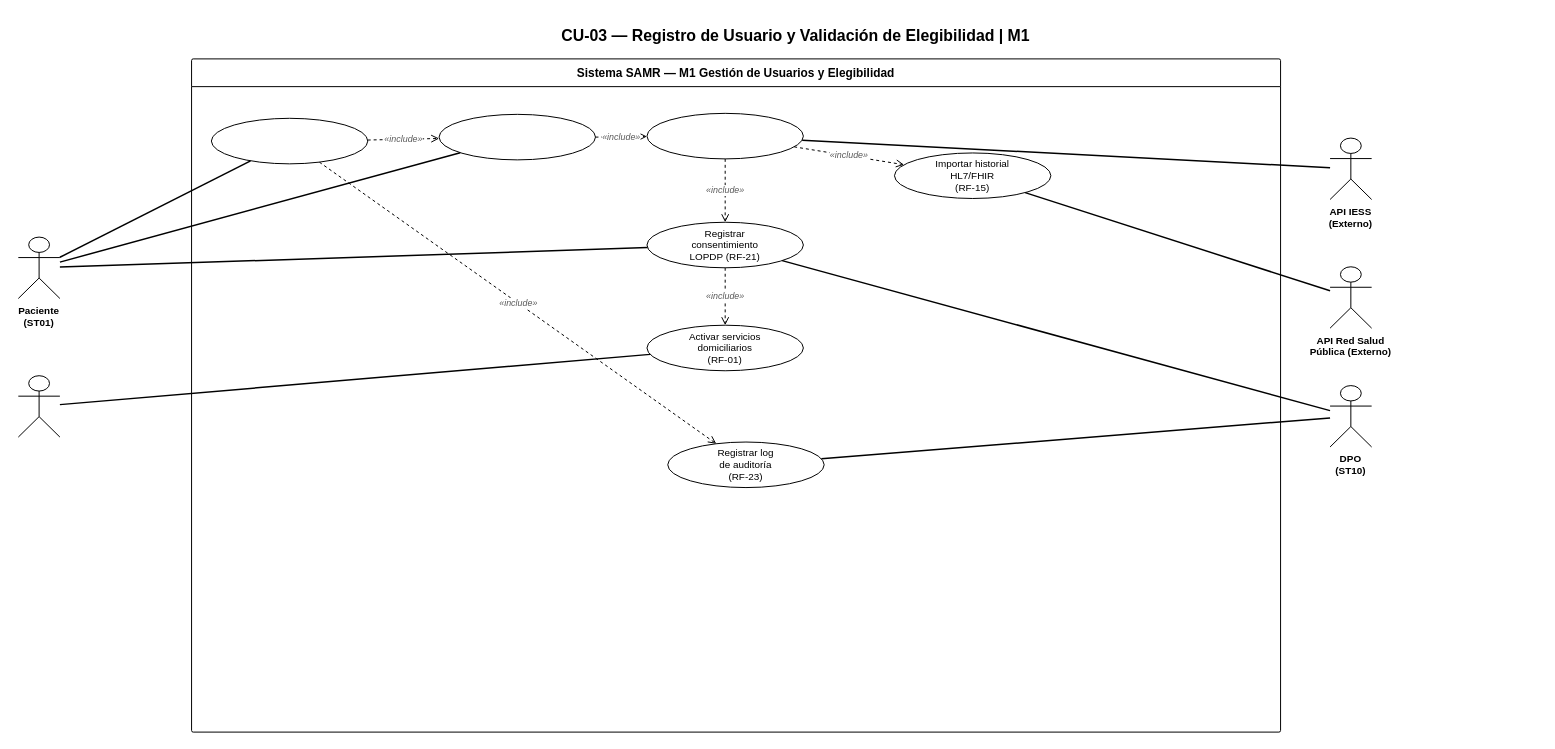
Some shapes in this 1555 by 749 pixel diagram are drawn without their labels. The shapes that lost their labels are listed below. From the top down, each one's centre as x and y in pixels, then its label:
At (x=289, y=140): "Registrar perfil con rol".
At (x=516, y=136): "Autenticar usuario".
At (x=724, y=135): "Validar elegibilidad automática (RF-02)".
At (x=38, y=406): "Personal Administ. (ST03)".
